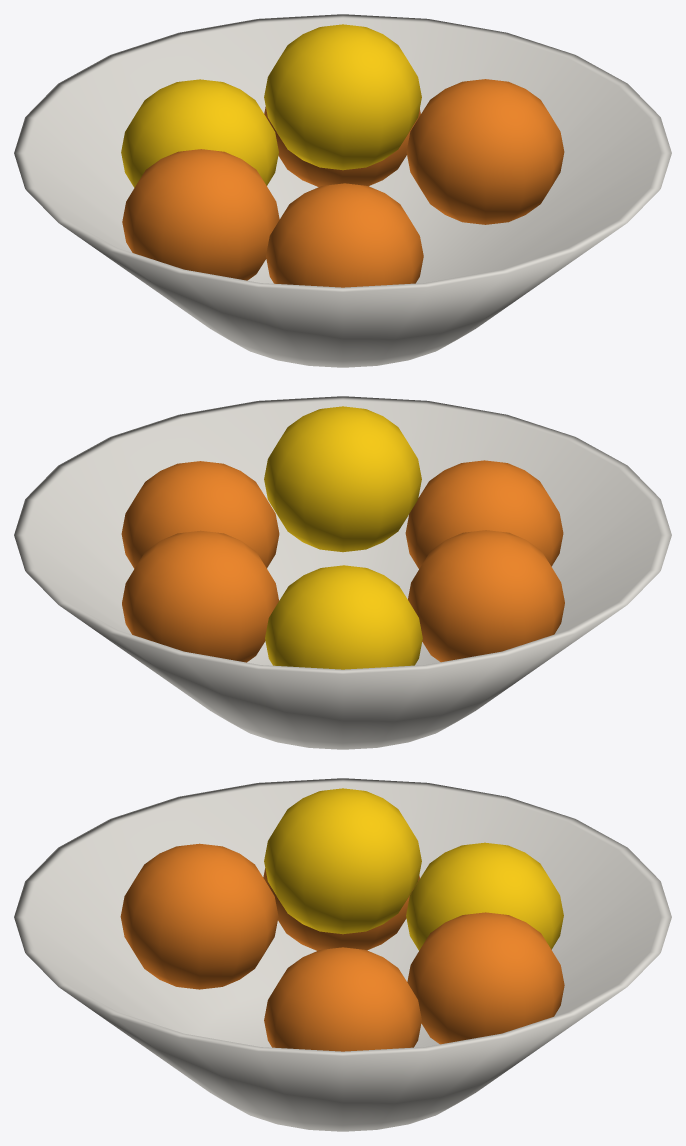
Rendered from i_kit_7.glb.
The picture shows the model from 3 angles, top to bottom: view 1: azimuth 30°, elevation 25°; view 2: azimuth 150°, elevation 25°; view 3: azimuth 270°, elevation 25°; orthographic projection.
Visible parts, largest first — view 1: o, o.001, o.006, o.004, o.005, o.003, o.002; view 2: o, o.006, o.004, o.002, o.003, o.001, o.005; view 3: o, o.005, o.006, o.002, o.001, o.003, o.004.
Part boxes in pixels (<box>): o: <box>14,14,671,367</box>; o.001: <box>406,79,564,224</box>; o.006: <box>264,24,421,170</box>; o.004: <box>122,149,279,280</box>; o.005: <box>266,183,423,287</box>; o.003: <box>121,79,278,187</box>; o.002: <box>264,107,420,186</box>; o: <box>14,396,671,749</box>; o.006: <box>264,406,421,552</box>; o.004: <box>408,530,564,662</box>; o.002: <box>122,530,278,662</box>; o.003: <box>265,565,422,669</box>; o.001: <box>121,461,279,568</box>; o.005: <box>405,460,563,568</box>; o: <box>14,778,671,1131</box>; o.005: <box>120,843,278,989</box>; o.006: <box>264,788,421,934</box>; o.002: <box>407,912,564,1044</box>; o.001: <box>264,947,421,1051</box>; o.003: <box>406,842,563,950</box>; o.004: <box>263,868,419,950</box>.
Size of the model in its own units: 0.3 by 0.1412 by 0.3.
